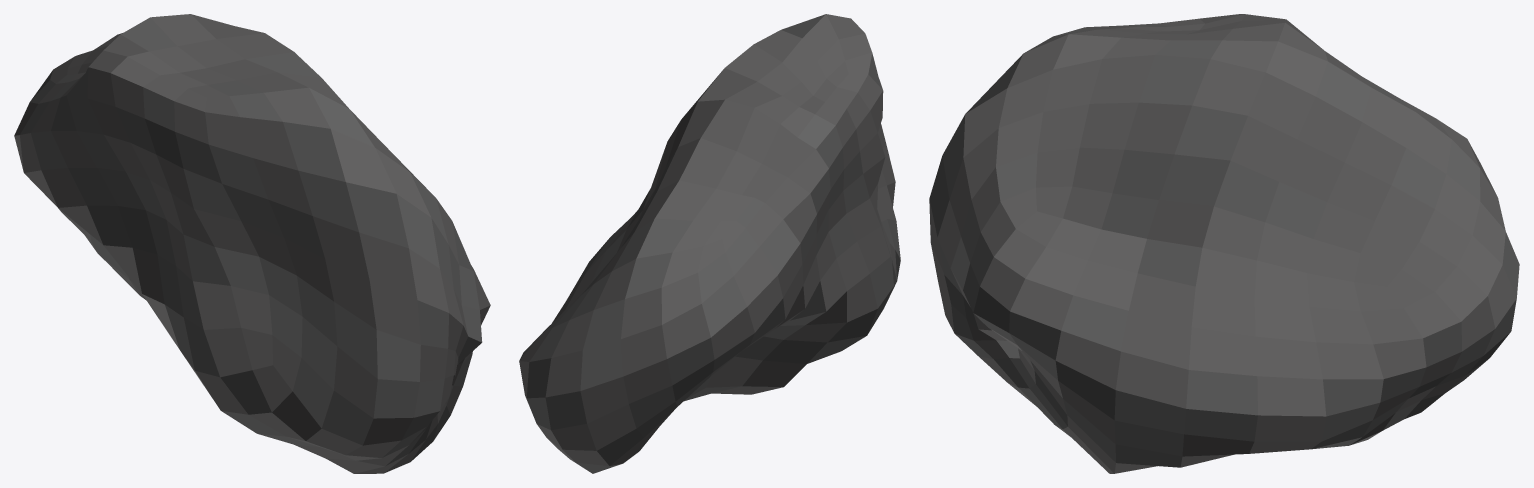
Rendered from rock1.fbx.
3 renders of one model, left to right at view 1: azimuth 30°, elevation 25°; view 2: azimuth 150°, elevation 25°; view 3: azimuth 270°, elevation 25°, orthographic. The views are drawn at different scales.
Visible parts, largest first — view 1: rock1; view 2: rock1; view 3: rock1.
Part boxes in pixels (box(x1,y1,x2,y2)): rock1: box(14, 14, 490, 473); rock1: box(519, 14, 900, 473); rock1: box(929, 14, 1519, 473).
Size of the model in its own units: 165 by 209 by 290.
